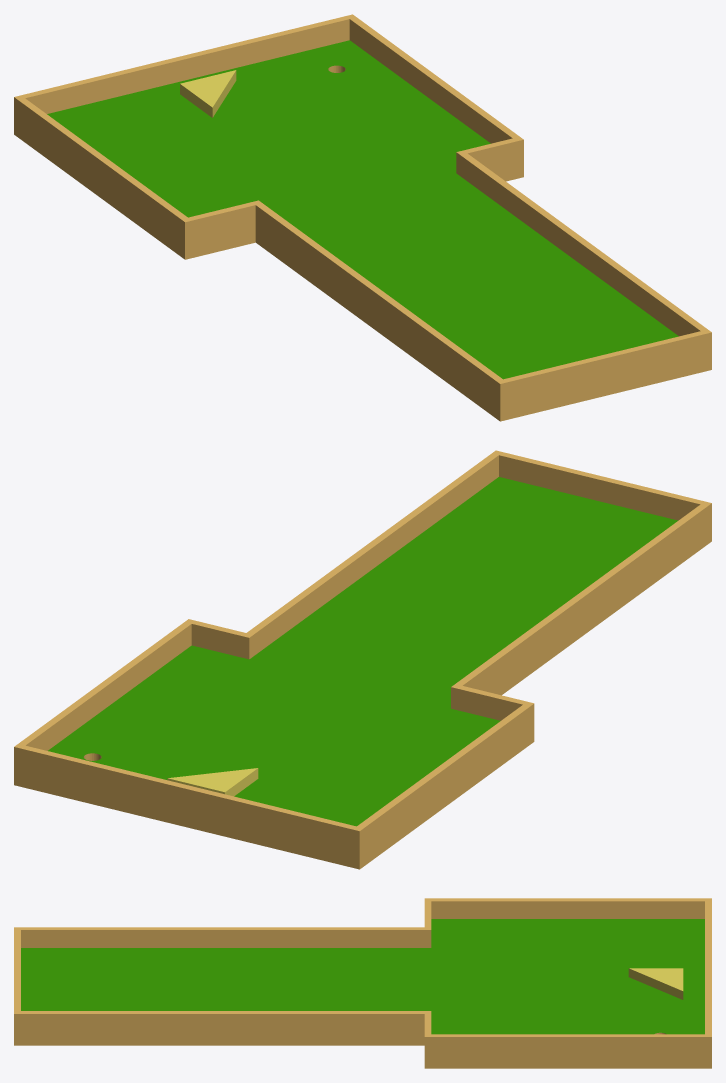
File: course1.glb
3 views of the same model, one above another, from view 1: azimuth 30°, elevation 25°; view 2: azimuth 150°, elevation 25°; view 3: azimuth 270°, elevation 25° (orthographic). The views are drawn at different scales.
Parts seen in each view (by area): view 1: Course, Plane; view 2: Course, Plane; view 3: Course, Plane.
Part boxes in pixels (<box>): Course: <box>14,14,711,421</box>; Plane: <box>180,70,236,117</box>; Course: <box>14,450,711,869</box>; Plane: <box>167,768,258,796</box>; Course: <box>14,898,711,1068</box>; Plane: <box>628,968,683,999</box>.
Size of what is drawn, in the model's own units: 24 by 2.54 by 51.
